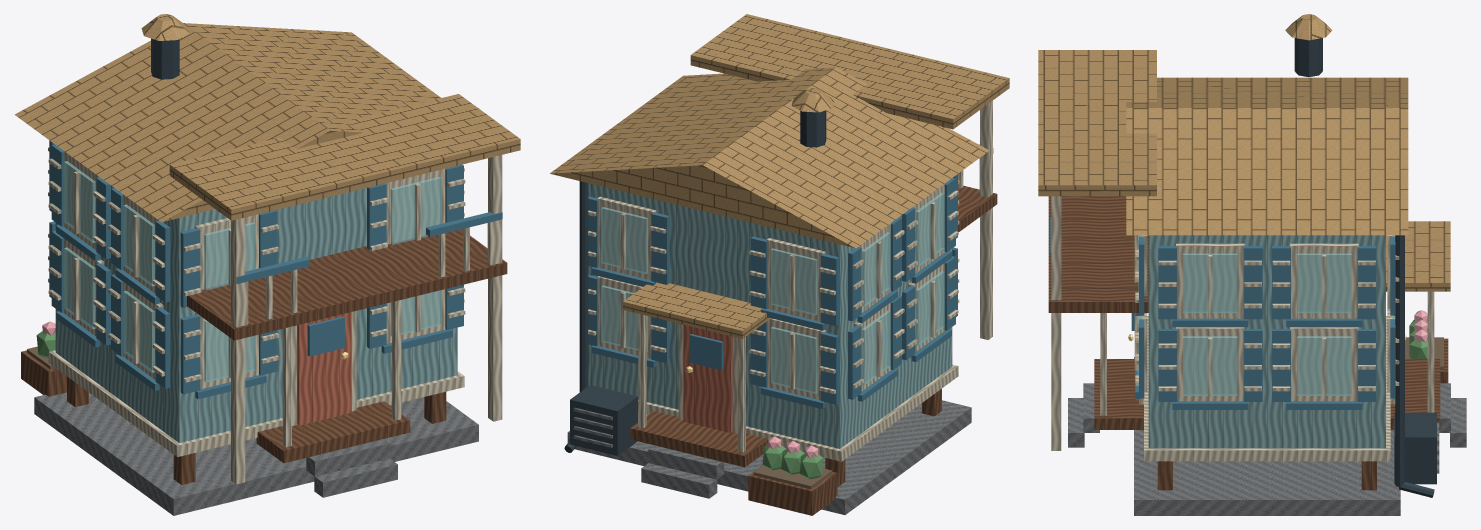
The model's file is house_beach_lv2_balcony.glb.
3 renders of one model, left to right at view 1: azimuth 30°, elevation 25°; view 2: azimuth 150°, elevation 25°; view 3: azimuth 270°, elevation 25°, orthographic. The views are drawn at different scales.
Visible parts, largest first — view 1: gable_roof, walls, balcony_roof, foundation, balcony_floor, front_deck, floor_trim, front_door, balcony_pillar, balcony_pillar.001, front_window_frame.003, front_window_frame.002 (+44 smaller); view 2: gable_roof, walls, balcony_roof, foundation, back_porch_canopy, back_door, back_deck, back_window_frame.003, back_window_frame.002, back_ac_unit, back_window_frame, floor_trim (+46 smaller); view 3: gable_roof, walls, balcony_roof, foundation, balcony_floor, right_window_frame.002, right_window_frame.003, right_window_frame, right_window_frame.001, floor_trim, back_porch_canopy, right_window_glass (+28 smaller).
Part boxes in pixels (x1,y1,x2,y2): gable_roof: [14, 23, 440, 222]; walls: [55, 185, 457, 442]; balcony_roof: [169, 94, 520, 220]; foundation: [34, 392, 478, 515]; balcony_floor: [187, 229, 507, 340]; front_deck: [256, 401, 410, 463]; floor_trim: [48, 350, 464, 456]; front_door: [297, 312, 351, 425]; balcony_pillar: [231, 217, 245, 484]; balcony_pillar.001: [488, 155, 502, 421]; front_window_frame.003: [385, 169, 445, 244]; front_window_frame.002: [195, 214, 258, 289]; gable_roof: [550, 67, 989, 248]; walls: [588, 183, 952, 448]; balcony_roof: [690, 14, 1009, 129]; foundation: [567, 400, 971, 514]; back_porch_canopy: [623, 282, 770, 338]; back_door: [683, 324, 732, 432]; back_deck: [630, 411, 768, 467]; back_window_frame.003: [597, 196, 656, 280]; back_window_frame.002: [766, 238, 825, 321]; back_ac_unit: [570, 385, 637, 455]; back_window_frame: [767, 318, 825, 399]; floor_trim: [638, 364, 958, 461]; gable_roof: [1126, 77, 1408, 235]; walls: [1148, 235, 1385, 448]; balcony_roof: [1038, 50, 1156, 196]; foundation: [1134, 357, 1400, 515]; balcony_floor: [1048, 196, 1148, 312]; right_window_frame.002: [1176, 243, 1244, 318]; right_window_frame.003: [1290, 243, 1358, 318]; right_window_frame: [1176, 327, 1244, 401]; right_window_frame.001: [1290, 327, 1358, 401]; floor_trim: [1144, 316, 1390, 461]; back_porch_canopy: [1386, 221, 1450, 291]; right_window_glass: [1183, 336, 1237, 395].
Bounding box in the file's own units: 3.15 × 3.67 × 3.61.
13 materials, 7 textured.
